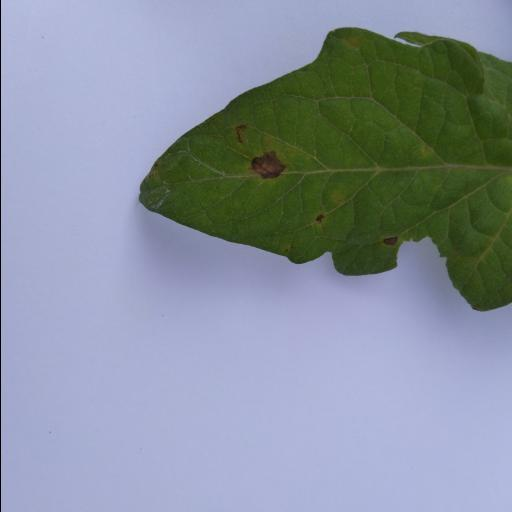Early Blight: (138, 26, 512, 310)
